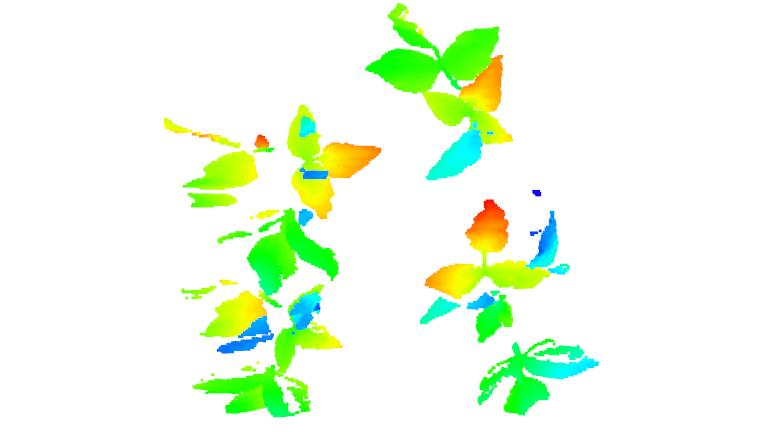mungbean: (145, 98, 385, 294), (418, 196, 599, 418), (363, 1, 523, 188), (185, 285, 346, 422)
